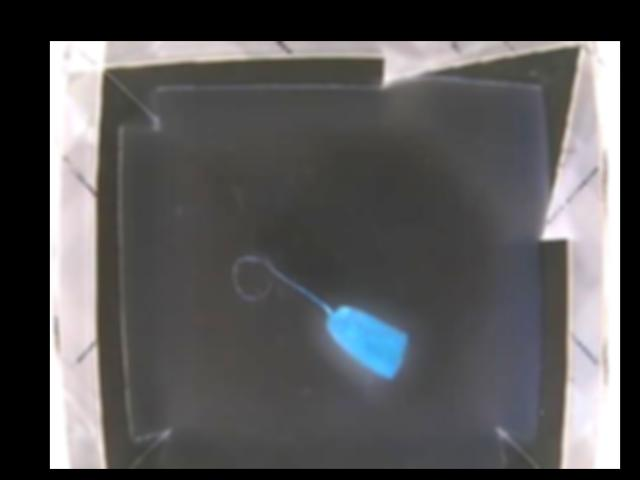Carrot: (322, 301, 409, 380)
